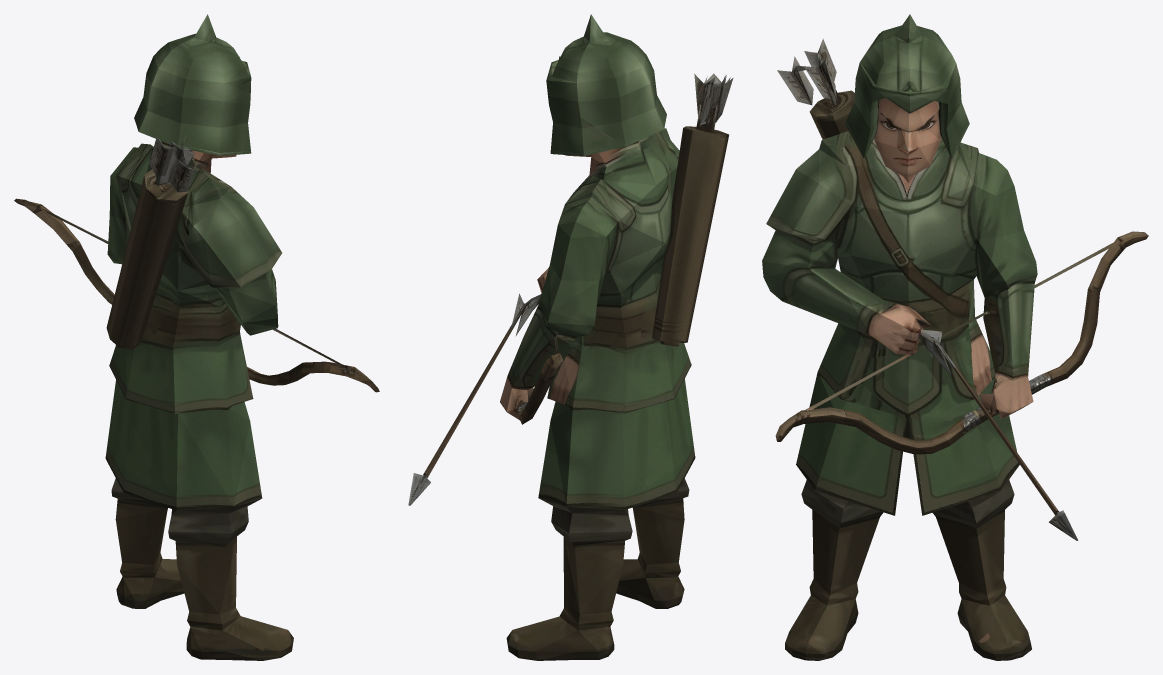
Rendered from unit.glb.
3 views of the same model, side by side, from view 1: azimuth 30°, elevation 25°; view 2: azimuth 150°, elevation 25°; view 3: azimuth 270°, elevation 25° (orthographic). The views are drawn at different scales.
Parts seen in each view (by area): view 1: tripo_node_80ef62fa-6e61-47ec-a8c3-03de83b4c516; view 2: tripo_node_80ef62fa-6e61-47ec-a8c3-03de83b4c516; view 3: tripo_node_80ef62fa-6e61-47ec-a8c3-03de83b4c516.
Part boxes in pixels (<box>): tripo_node_80ef62fa-6e61-47ec-a8c3-03de83b4c516: <box>14,14,379,660</box>; tripo_node_80ef62fa-6e61-47ec-a8c3-03de83b4c516: <box>408,14,733,660</box>; tripo_node_80ef62fa-6e61-47ec-a8c3-03de83b4c516: <box>762,14,1148,660</box>.
Bounding box in the file's own units: 0.3574 × 0.998 × 0.5566.
Materials: 1 (1 with a texture image).
